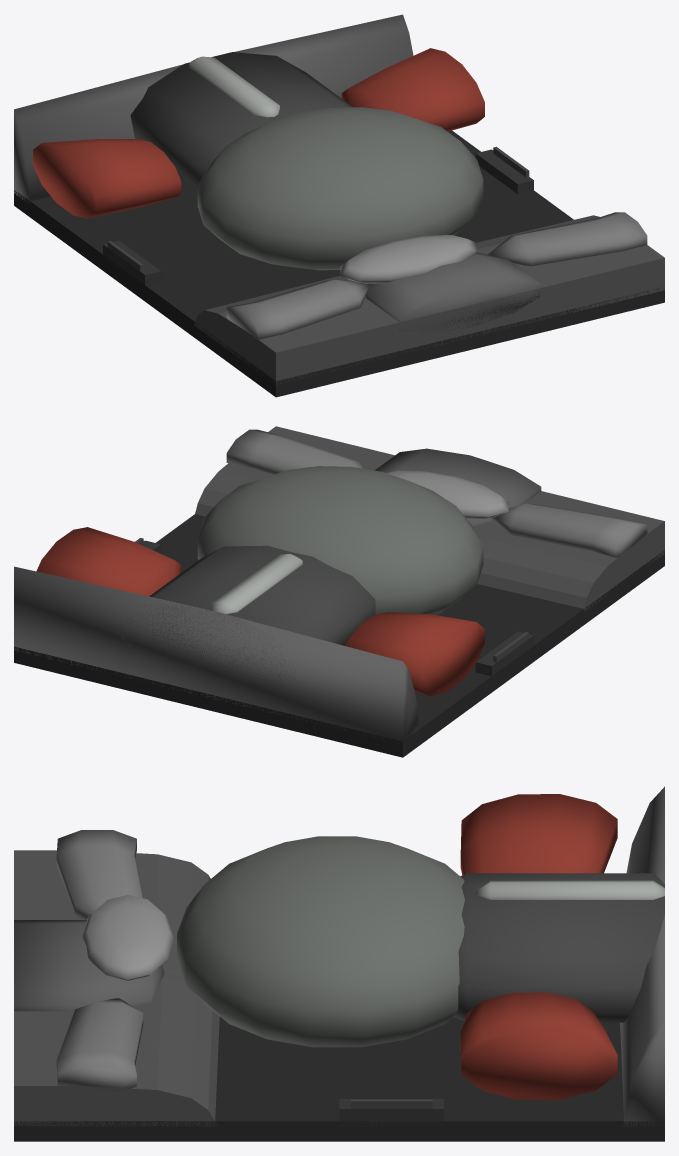
Rendered from newsh9-49.glb.
3 views of the same model, one above another, from view 1: azimuth 30°, elevation 25°; view 2: azimuth 150°, elevation 25°; view 3: azimuth 270°, elevation 25° (orthographic). The views are drawn at different scales.
Parts seen in each view (by area): view 1: newsh9-49; view 2: newsh9-49; view 3: newsh9-49.
Boxes of the visible parts, <box> form: newsh9-49: <box>14,14,664,397</box>; newsh9-49: <box>14,426,664,757</box>; newsh9-49: <box>14,786,664,1141</box>.
Size of the model in its own units: 2 by 0.62 by 2.33.
